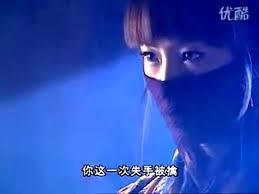OK: (138, 17, 249, 139)
